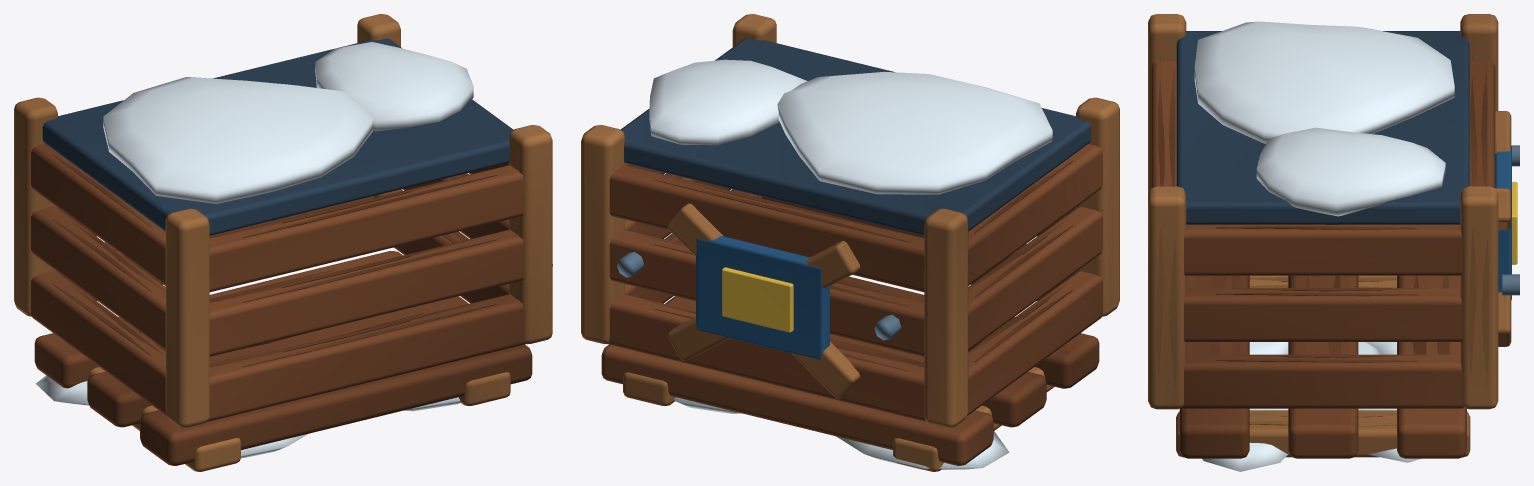
Rendered from cargo_crate.glb.
3 views of the same model, side by side, from view 1: azimuth 30°, elevation 25°; view 2: azimuth 150°, elevation 25°; view 3: azimuth 270°, elevation 25° (orthographic). The views are drawn at different scales.
Visible parts, largest first — view 1: cargo_crate; view 2: cargo_crate; view 3: cargo_crate.
Part boxes in pixels (x1,y1,x2,y2): cargo_crate: (14,14,552,471); cargo_crate: (581,14,1119,471); cargo_crate: (1148,14,1519,471).
Bounding box in the file's own units: 1.45 × 1.07 × 1.17.
